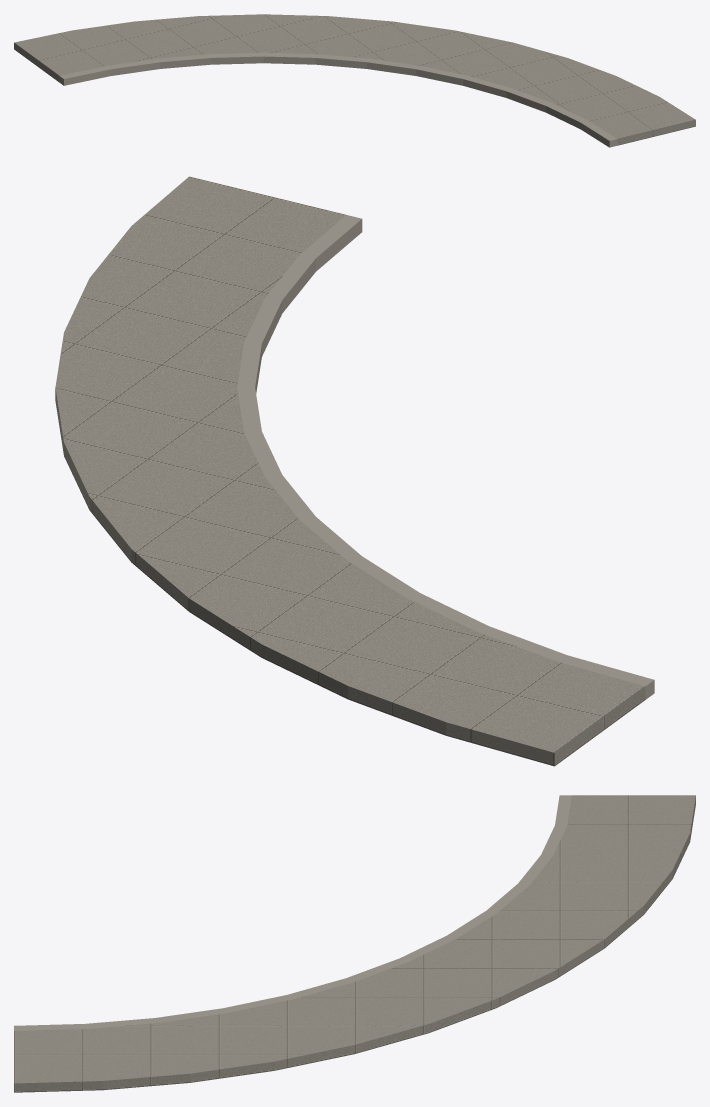
Rendered from MS_RD_12_OutsideSidewalkCorner.glb.
3 views of the same model, one above another, from view 1: azimuth 30°, elevation 25°; view 2: azimuth 150°, elevation 25°; view 3: azimuth 270°, elevation 25° (orthographic). The views are drawn at different scales.
Visible parts, largest first — view 1: Concrete.004, Curb.001; view 2: Concrete.004, Curb.001; view 3: Concrete.004, Curb.001.
Boxes of the visible parts, bbox=[...] form: Concrete.004: bbox=[14, 14, 695, 145]; Curb.001: bbox=[59, 52, 617, 147]; Concrete.004: bbox=[55, 176, 645, 766]; Curb.001: bbox=[237, 215, 654, 699]; Concrete.004: bbox=[14, 795, 695, 1092]; Curb.001: bbox=[14, 795, 571, 1030].
Size of the model in its own units: 10 by 0.15 by 10.
2 materials, 1 textured.
